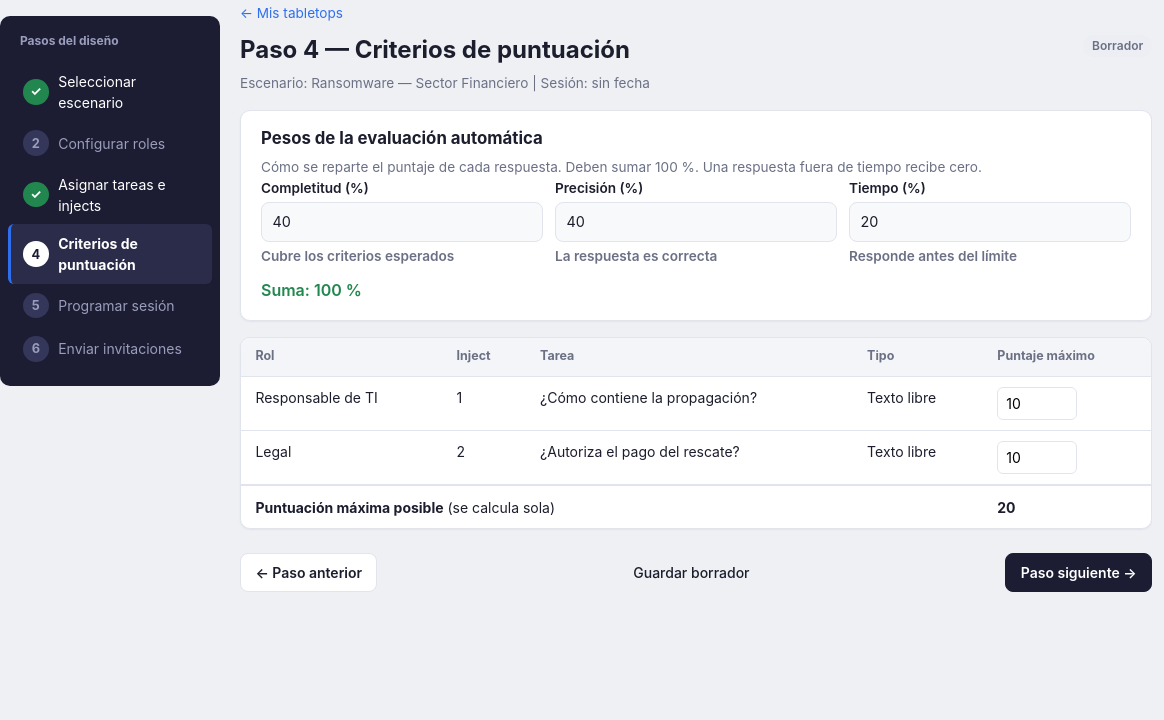
DisenadorPage › muestra los errores del backend y no avanza
Expected: the text "20" is shown, [997, 499, 1016, 516]
Replace the text in the number field labelled "Tiempo (%)" with "30" at (990, 222), box [849, 202, 1131, 242]
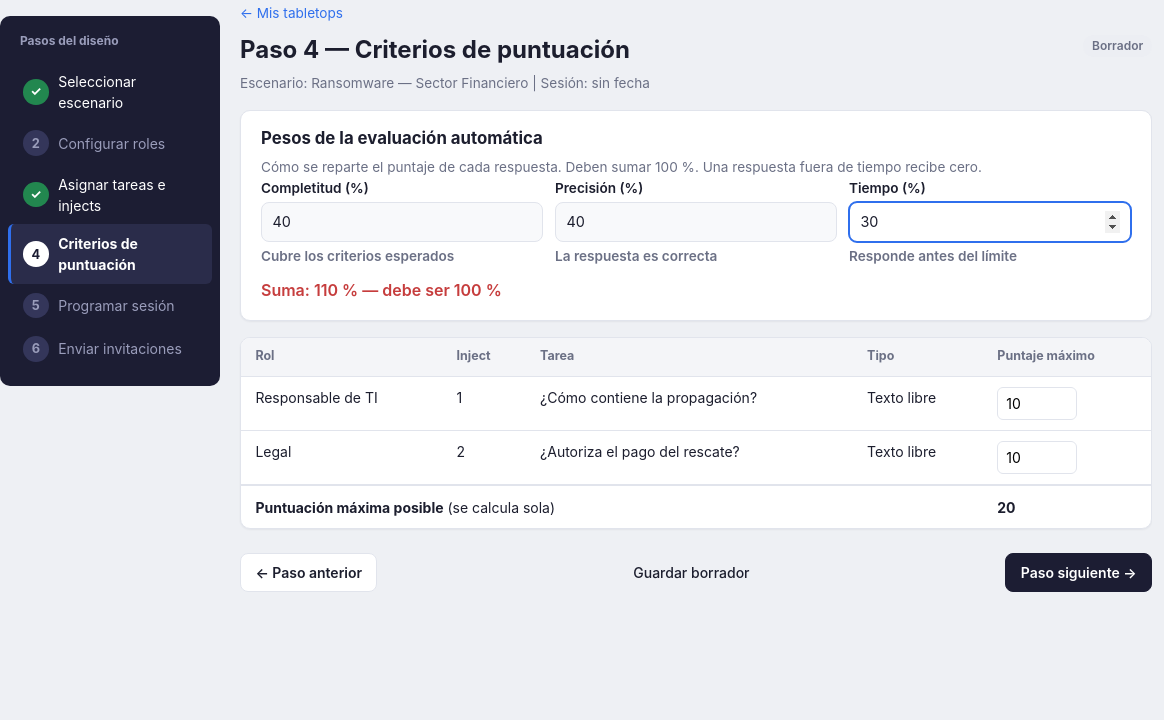
Click the button "Paso siguiente →".
click(1079, 573)  # box [1005, 553, 1152, 592]
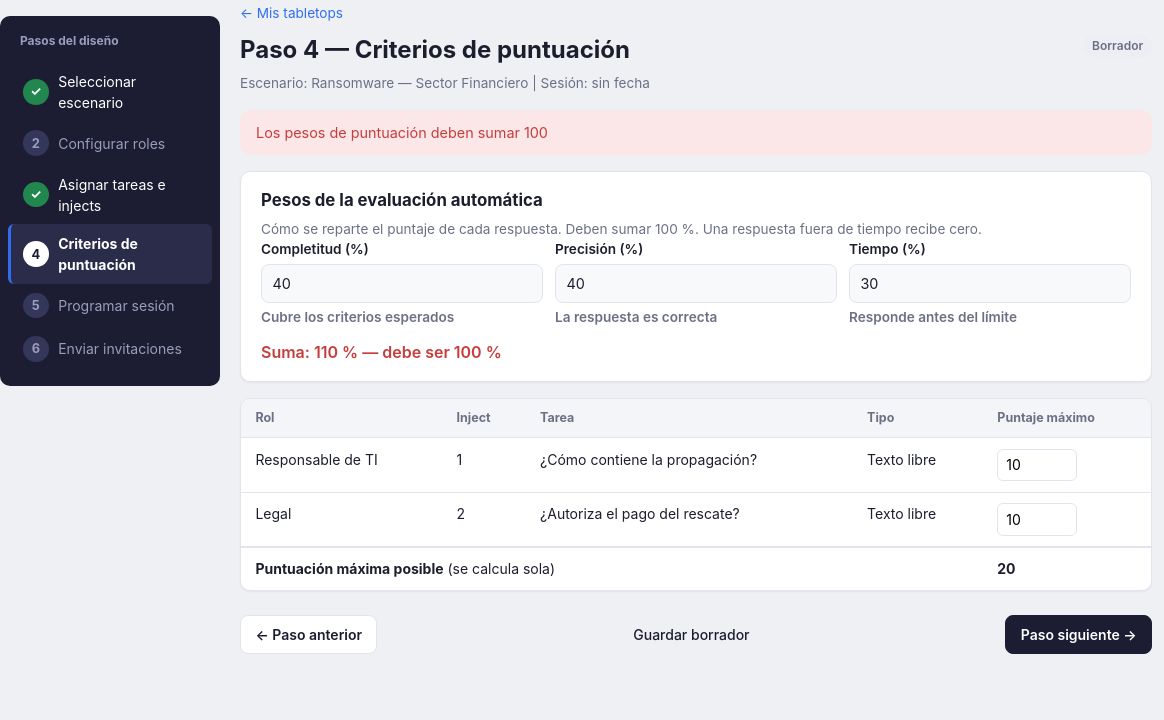
Expected: the heading "Paso 4 — Criterios de puntuación" is shown, [240, 35, 650, 65]
Result: the message shows "deben sumar 100" at [256, 124, 548, 141]
